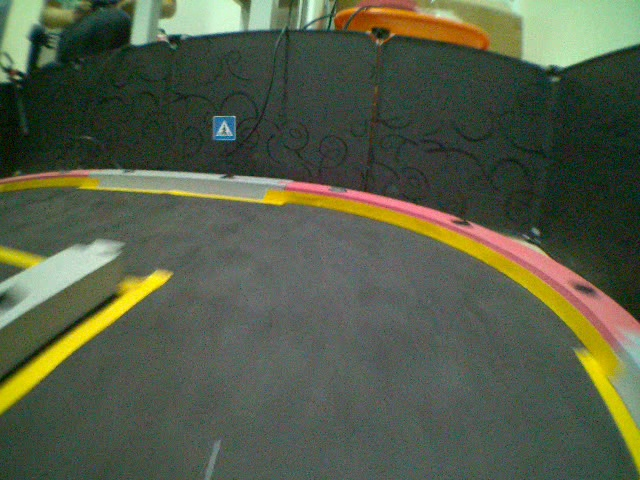crossing: (210, 113, 236, 140)
